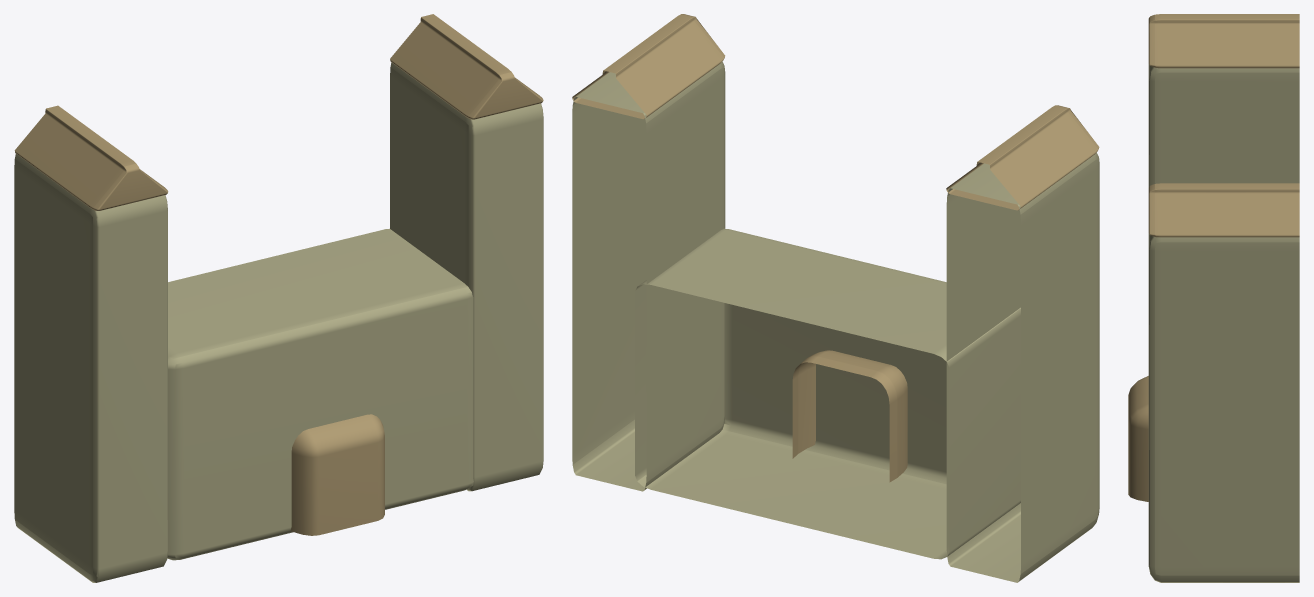
3 views of the same model, side by side, from view 1: azimuth 30°, elevation 25°; view 2: azimuth 150°, elevation 25°; view 3: azimuth 270°, elevation 25° (orthographic). The views are drawn at different scales.
Parts seen in each view (by area): view 1: polySurface47, polySurface44, polySurface51; view 2: polySurface47, polySurface44, polySurface51; view 3: polySurface47, polySurface44, polySurface51.
Boxes of the visible parts, box(x1,y1,x2,y2) form: polySurface47: box(14, 62, 543, 582); polySurface44: box(14, 14, 543, 210); polySurface51: box(290, 414, 384, 535); polySurface47: box(572, 61, 1099, 582); polySurface44: box(572, 14, 1099, 210); polySurface51: box(792, 350, 907, 482); polySurface47: box(1148, 64, 1299, 582); polySurface44: box(1148, 14, 1299, 237); polySurface51: box(1128, 376, 1148, 501).
Size of the model in its own units: 10.48 by 9.18 by 3.74.
